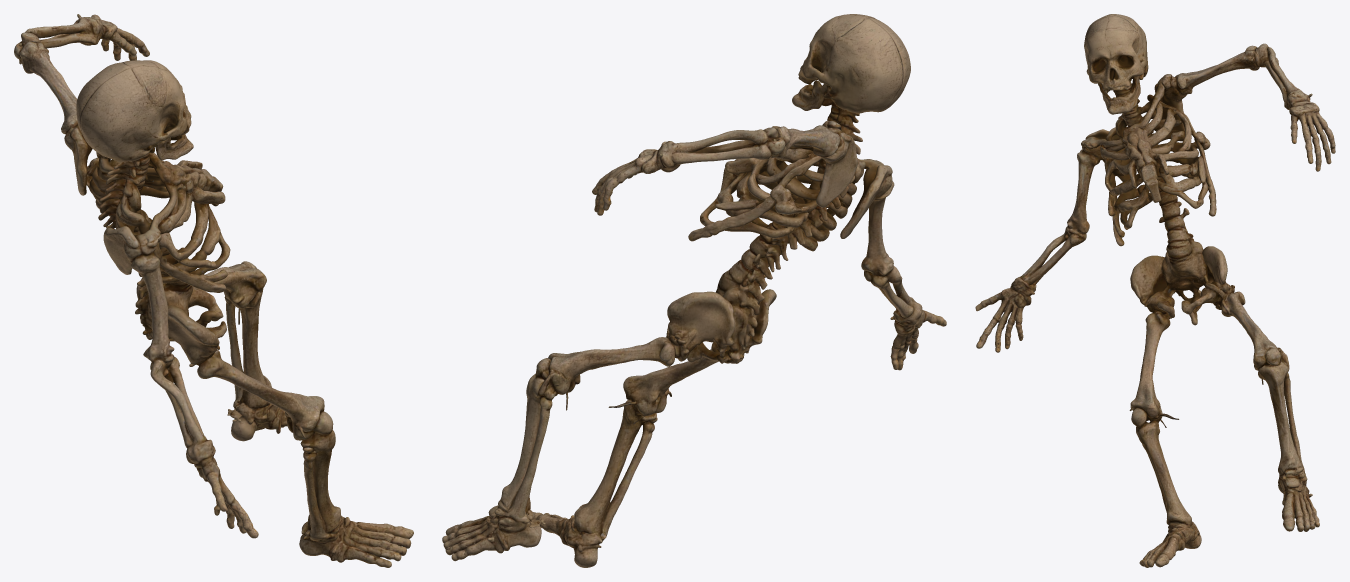
File: esqueleto.glb
The picture shows the model from 3 angles, left to right: view 1: azimuth 30°, elevation 25°; view 2: azimuth 150°, elevation 25°; view 3: azimuth 270°, elevation 25°; orthographic projection. The views are drawn at different scales.
Parts seen in each view (by area): view 1: tripo_node_de07c276-f91a-4d68-8eb4-cb86408de3e0; view 2: tripo_node_de07c276-f91a-4d68-8eb4-cb86408de3e0; view 3: tripo_node_de07c276-f91a-4d68-8eb4-cb86408de3e0.
Part boxes in pixels (bbox=[...]): tripo_node_de07c276-f91a-4d68-8eb4-cb86408de3e0: bbox=[14, 14, 413, 567]; tripo_node_de07c276-f91a-4d68-8eb4-cb86408de3e0: bbox=[442, 14, 946, 567]; tripo_node_de07c276-f91a-4d68-8eb4-cb86408de3e0: bbox=[975, 14, 1335, 567].
Bounding box in the file's own units: 0.6431 × 1 × 0.732.
Materials: 1 (1 with a texture image).
